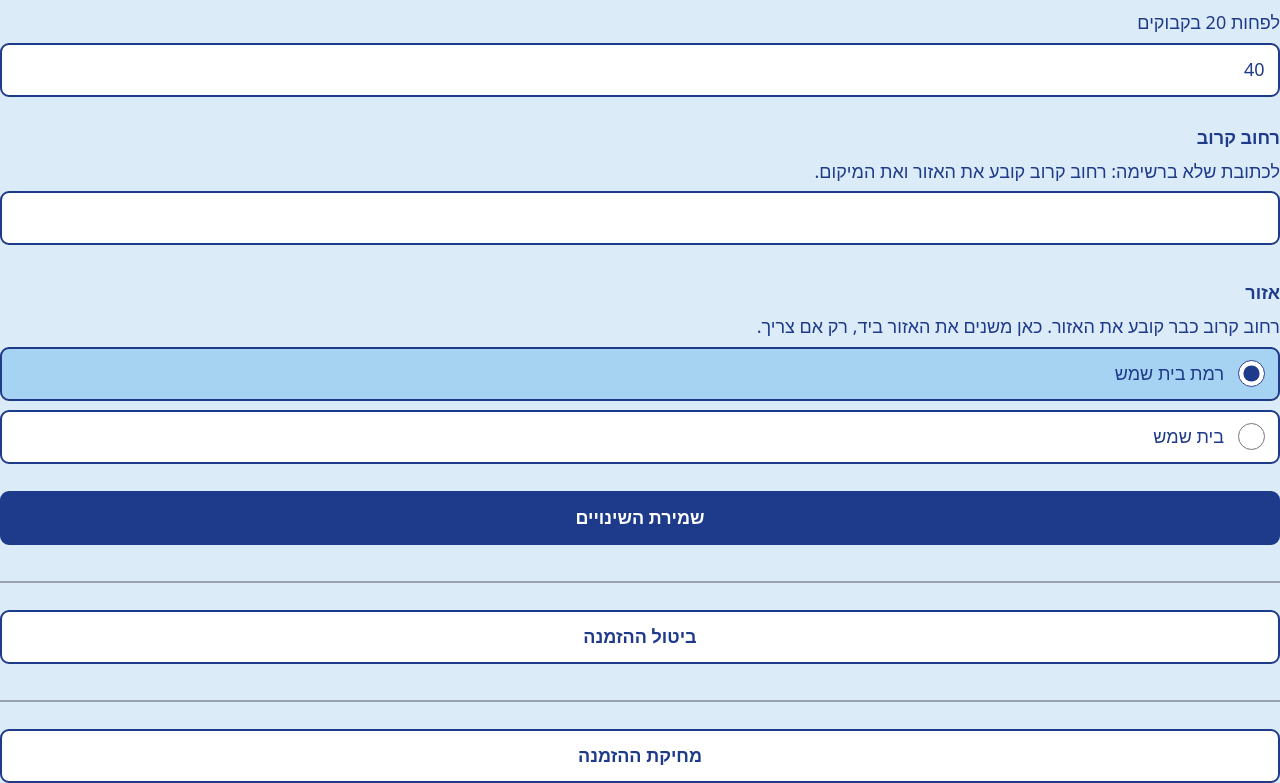
Test: EditOrderScreen › saving › shows the message when the save answers closed
(page scrolled)
What coordinates should you click on to do the following:
click the button "שמירת השינויים"
I would click on:
 (640, 518)
Its box is top-left (0, 491), bottom-right (1279, 545).
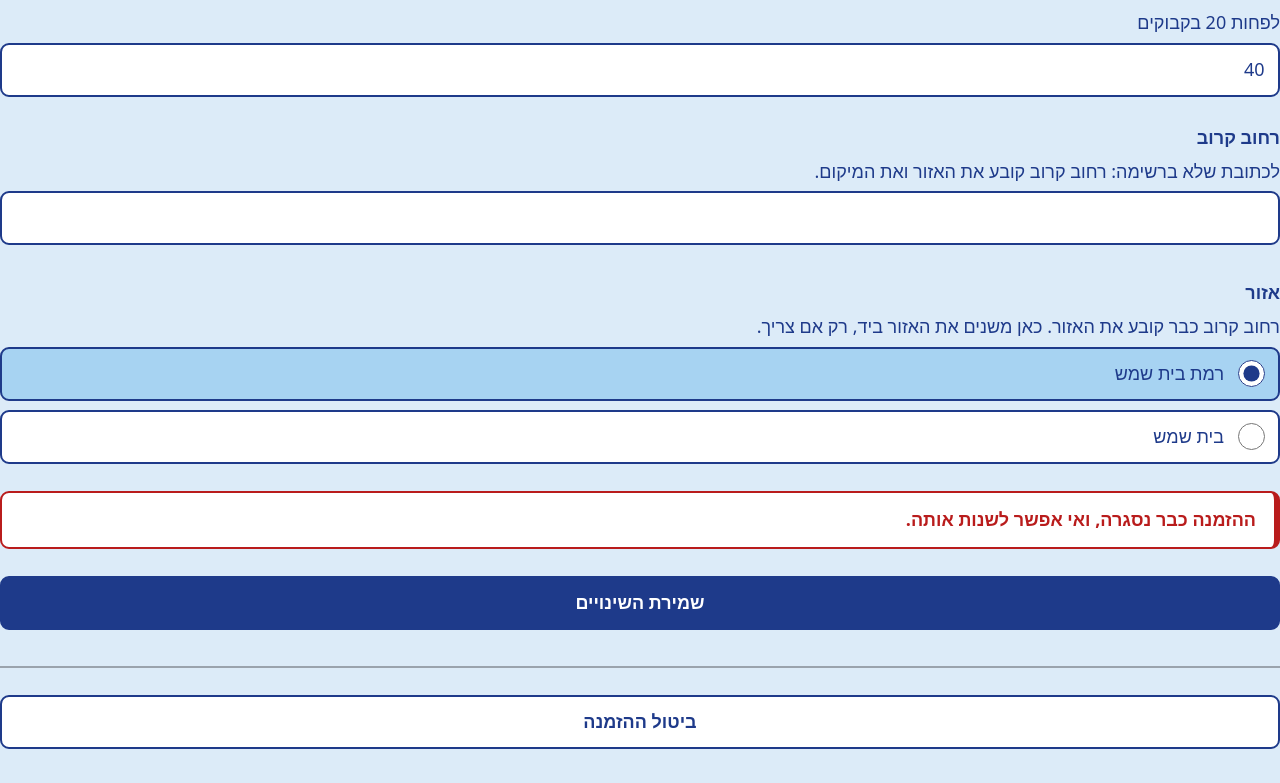
expect the message reads "ההזמנה כבר נסגרה, ואי אפשר לשנות אותה.": met, box top-left (906, 507), bottom-right (1256, 531)
